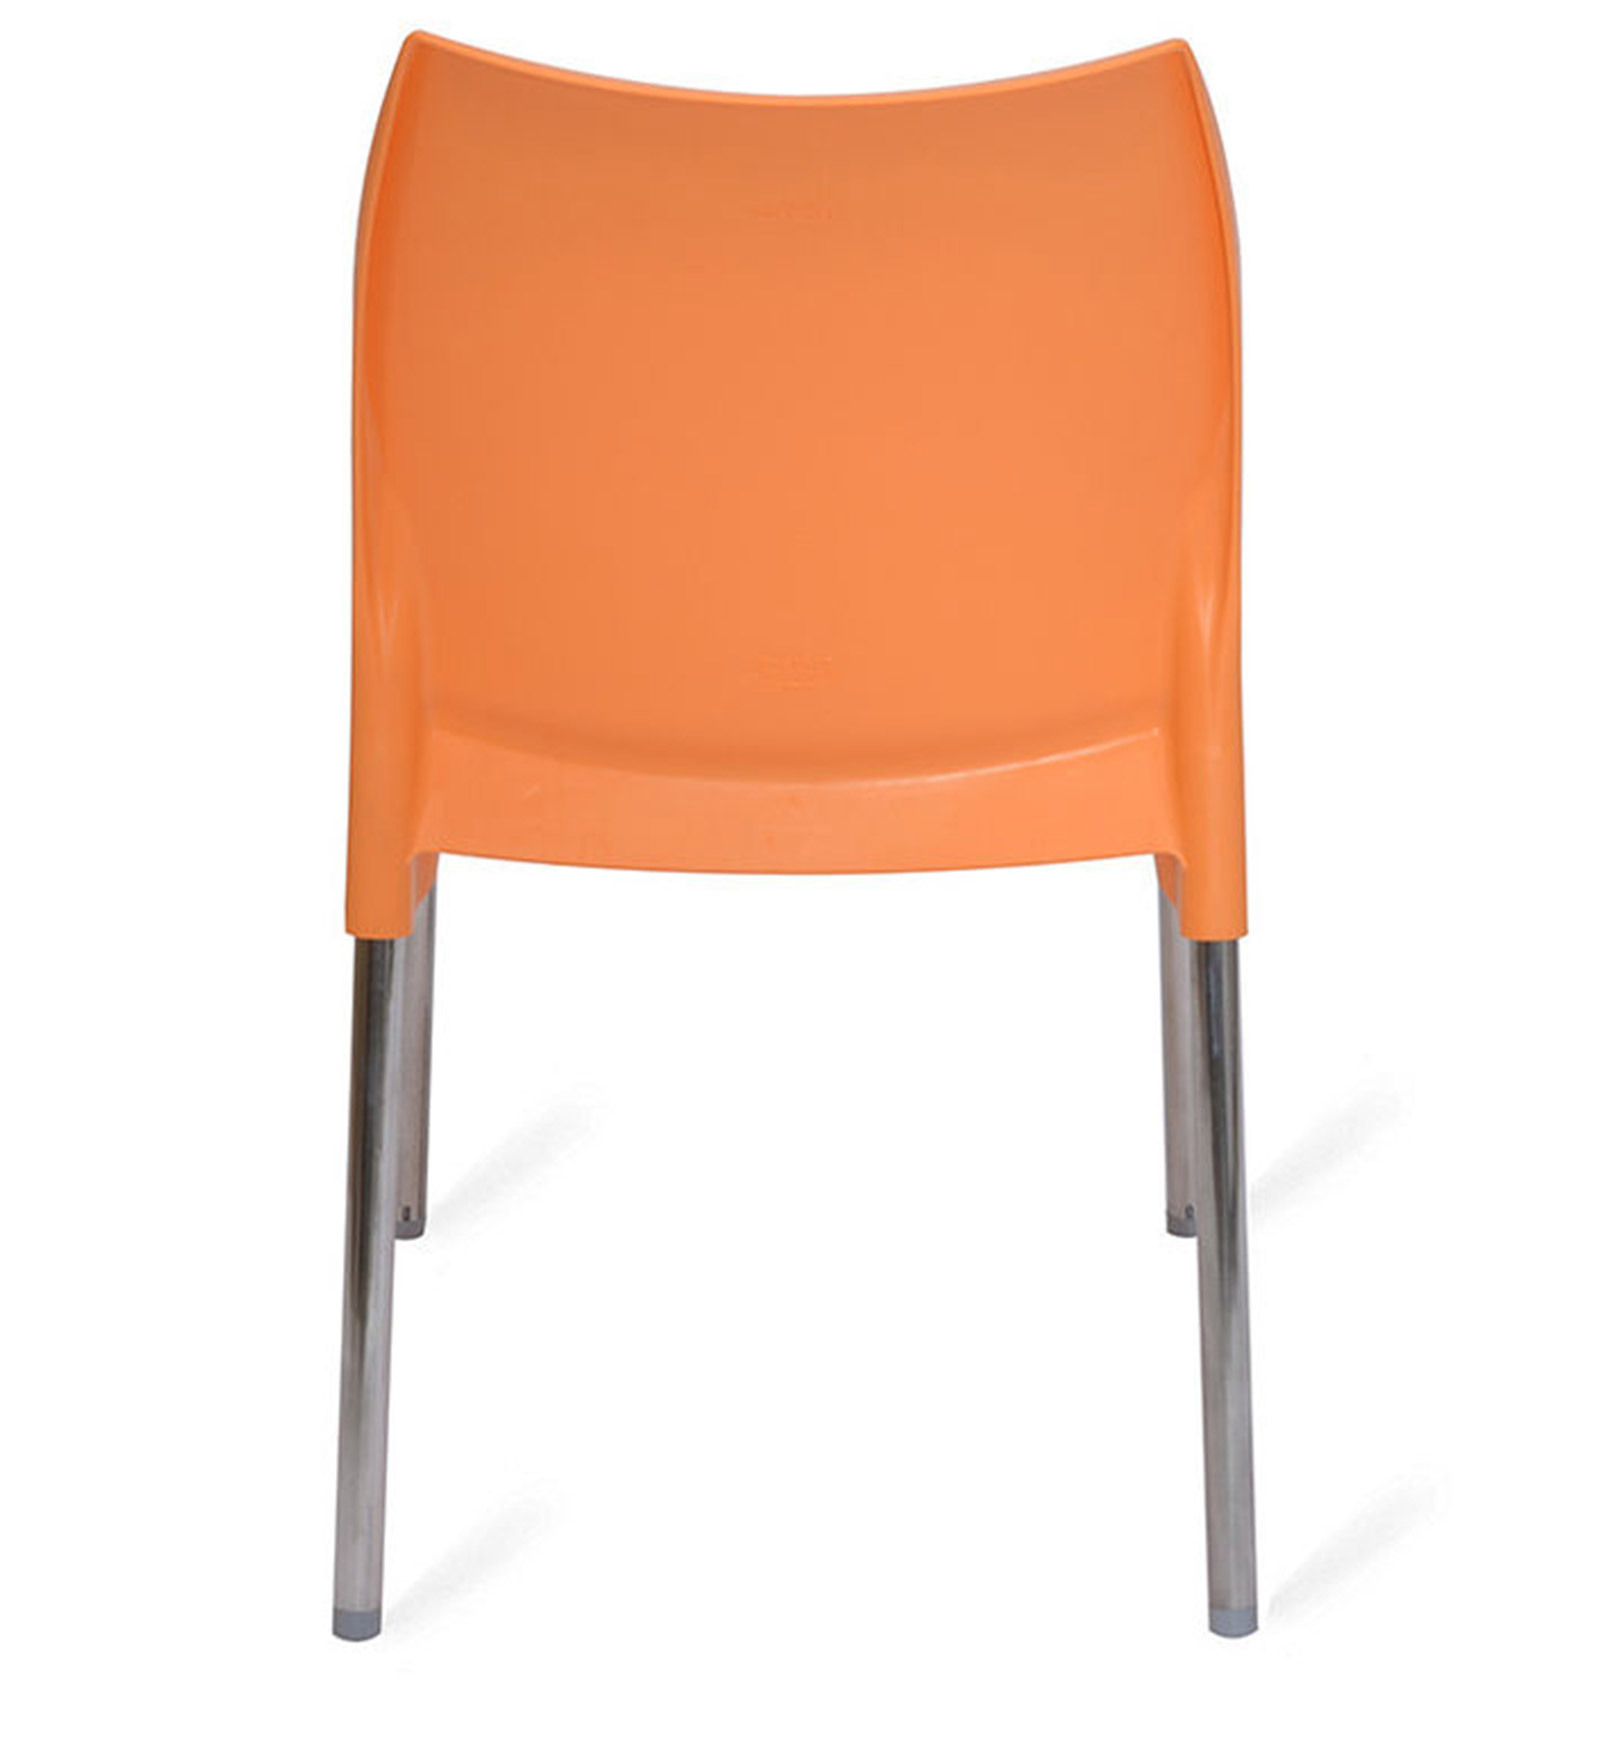Novella Series - 7 Chair (Set of 2) in Orange Colour by Nilkamal: (316, 21, 1278, 1645)
